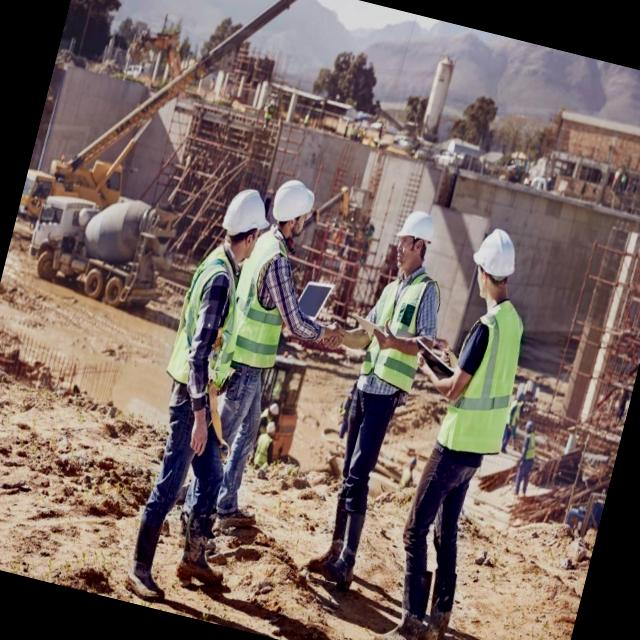helmet: (212, 180, 279, 253), (464, 222, 530, 290), (268, 173, 322, 238), (392, 202, 445, 260)
vest: (426, 287, 538, 468), (162, 242, 252, 396), (226, 224, 312, 378), (348, 272, 436, 404)
